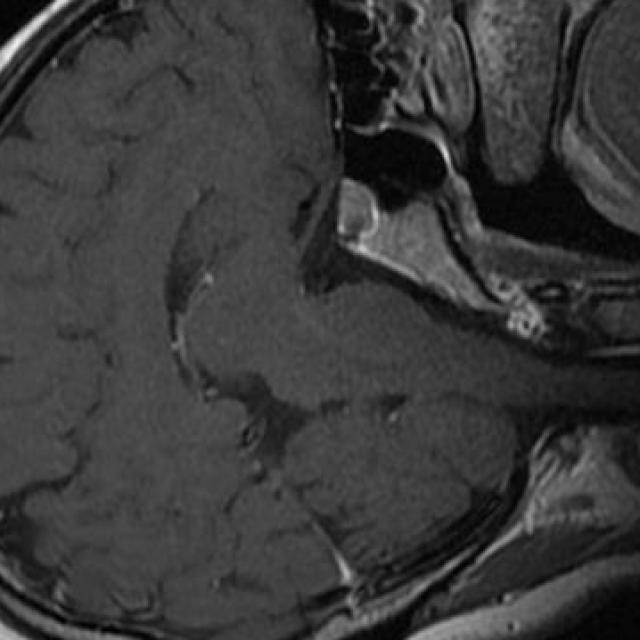pituitary: (332, 182, 374, 242)
